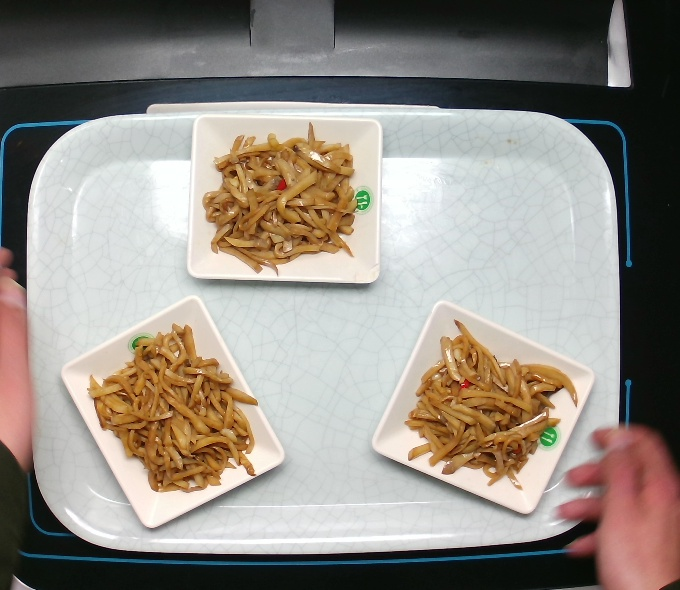wcq-LiangBanMoGu: (83, 319, 263, 497), (403, 316, 581, 493), (199, 119, 361, 277)
